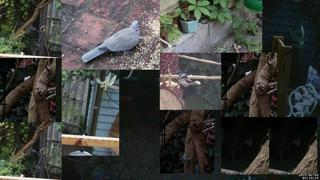collared dove: (82, 20, 140, 63)
long tailed tit: (175, 73, 201, 90)
